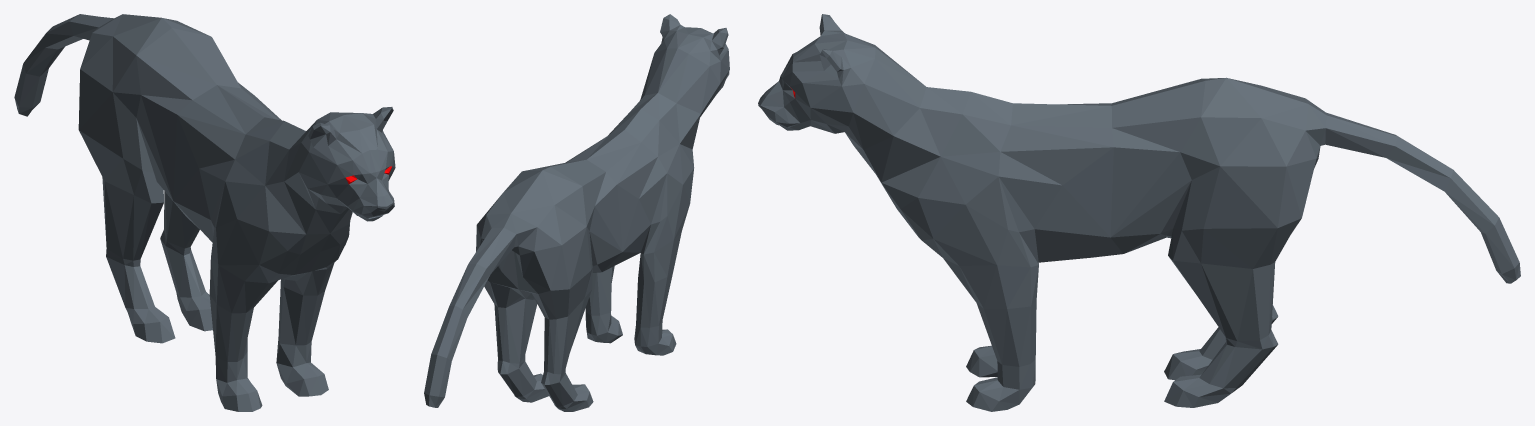
File: quadruped_panther.gltf
The picture shows the model from 3 angles, left to right: view 1: azimuth 30°, elevation 25°; view 2: azimuth 150°, elevation 25°; view 3: azimuth 270°, elevation 25°; orthographic projection. The views are drawn at different scales.
Parts seen in each view (by area): view 1: mountainlion_colorMap_black; view 2: mountainlion_colorMap_black; view 3: mountainlion_colorMap_black.
Part boxes in pixels (x1=…): mountainlion_colorMap_black: x1=14, y1=14, x2=395, y2=411; mountainlion_colorMap_black: x1=424, y1=14, x2=729, y2=411; mountainlion_colorMap_black: x1=758, y1=14, x2=1520, y2=411.
Size of the model in its own units: 35.76 by 99.31 by 194.
